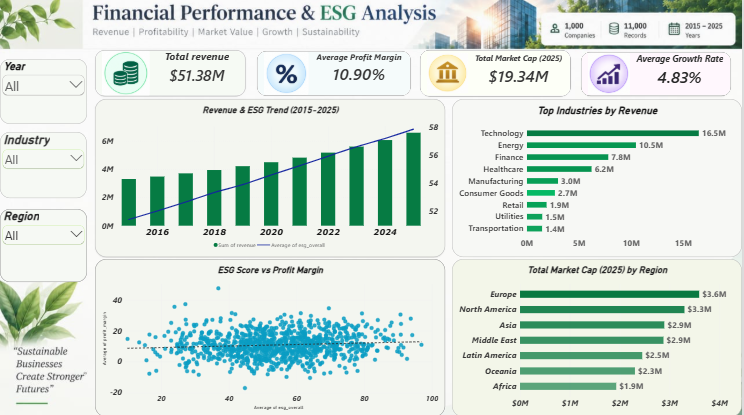

The dashboard page shown, as its layout file describes it:
{"tool":"powerbi","page":{"name":"Page 1","canvas":[1920,1080],"ordinal":0},"visuals":[{"type":"slicer","fields":{"Values":["public company_financials.year"]},"box":[0,152.7,225.1,168.2],"z":0},{"type":"slicer","fields":{"Values":["public company_financials.industry"]},"box":[0,341.6,224.3,171.3],"z":1000},{"type":"slicer","fields":{"Values":["public company_financials.region"]},"box":[0,540.8,225.1,188.9],"z":2000},{"type":"cardVisual","fields":{"Data":["public company_financials.Total revenue"]},"box":[245.8,129.4,390,120],"z":3000},{"type":"cardVisual","fields":{"Data":["public company_financials.Average_Profit_Margin"]},"box":[665,132,398.5,116.4],"z":4000},{"type":"cardVisual","fields":{"Data":["public company_financials.Total_Market_Capitalization"]},"box":[1086.8,129.4,390,120],"z":5000},{"type":"cardVisual","fields":{"Data":["public company_financials.Average_Growth_Rate"]},"box":[1503.4,134.6,388.1,113.9],"z":6000},{"type":"lineClusteredColumnComboChart","title":"Revenue & ESG Trend (2015-2025)","fields":{"Category":["public company_financials.Year"],"Y":["Sum(public company_financials.revenue)"],"Y2":["Avg(public company_financials.esg_overall)"]},"box":[245.8,256.2,905.7,408.8],"z":7000},{"type":"clusteredBarChart","title":"Top Industries by Revenue","fields":{"Category":["public company_financials.Industry"],"Y":["Sum(public company_financials.revenue)"]},"box":[1169.6,256.2,750.4,408.8],"z":8000},{"type":"clusteredBarChart","fields":{"Category":["public company_financials.Region"],"Y":["public company_financials.Total Market Cap (2025)"]},"box":[1169.6,670.2,750.4,408.8],"z":9000},{"type":"scatterChart","title":"ESG Score vs Profit Margin","fields":{"Category":["public company_financials.company_name"],"X":["Avg(public company_financials.esg_overall)"],"Y":["Avg(public company_financials.profit_margin)"]},"box":[245.8,670.2,905.7,408.8],"z":10000}]}

Visuals, with their boxes in screenshot pixels (x1, y1, x2, y2), scaled from the page's 1920x1080 canvas onto the 744x415 screenshot:
slicer - public company_financials.year: 0, 59, 87, 123
slicer - public company_financials.industry: 0, 131, 87, 197
slicer - public company_financials.region: 0, 208, 87, 280
cardVisual - public company_financials.Total revenue: 95, 50, 246, 96
cardVisual - public company_financials.Average_Profit_Margin: 258, 51, 412, 95
cardVisual - public company_financials.Total_Market_Capitalization: 421, 50, 572, 96
cardVisual - public company_financials.Average_Growth_Rate: 583, 52, 733, 95
"Revenue & ESG Trend (2015-2025)" lineClusteredColumnComboChart: 95, 98, 446, 256
"Top Industries by Revenue" clusteredBarChart: 453, 98, 743, 256
clusteredBarChart - public company_financials.Region x public company_financials.Total Market Cap (2025): 453, 258, 743, 414
"ESG Score vs Profit Margin" scatterChart: 95, 258, 446, 414
